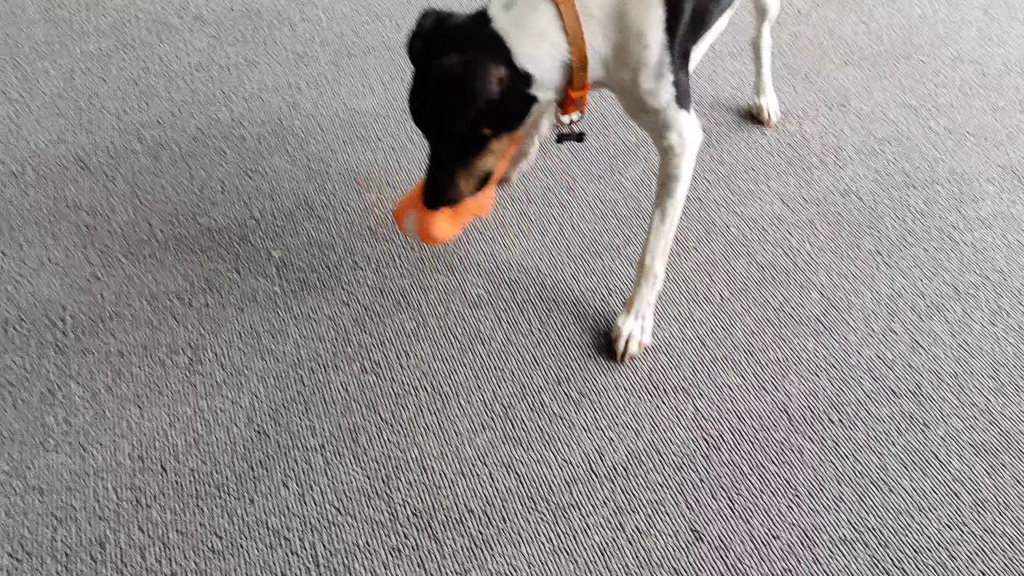Dog: (388, 0, 799, 381)
